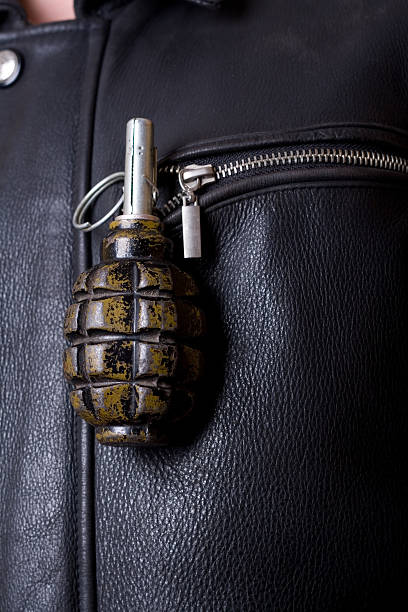e1: (60, 123, 197, 454)
